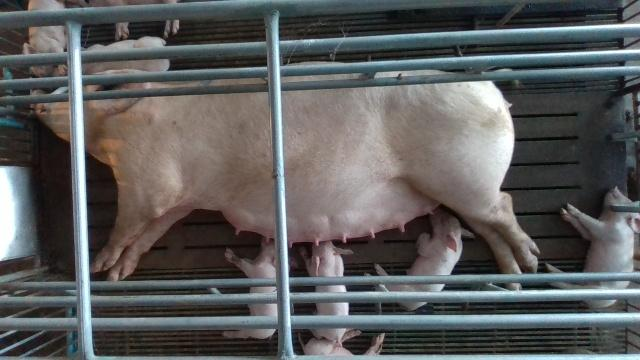piglet: (364, 209, 476, 312), (547, 186, 640, 308), (222, 241, 296, 339), (300, 242, 354, 340), (59, 36, 170, 76), (23, 0, 65, 77), (298, 331, 386, 355)
sow-sleep-lactate: (35, 61, 542, 289)
